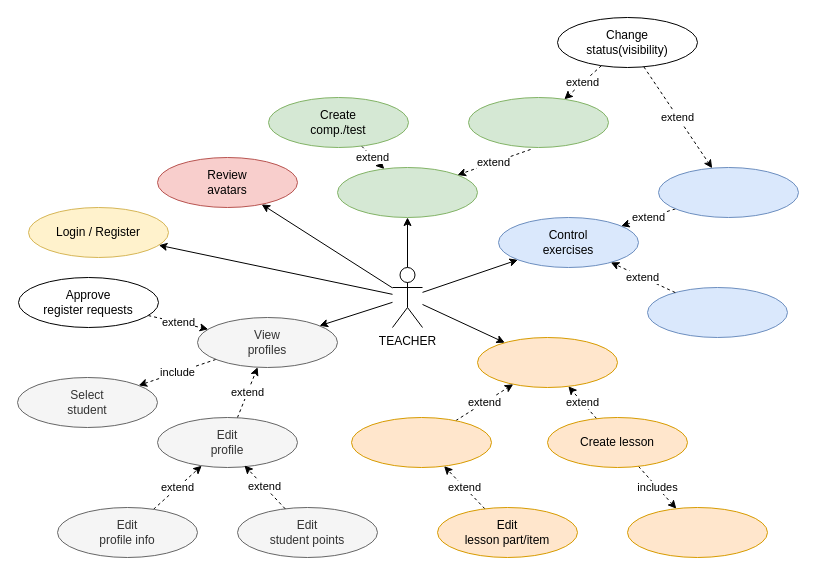
Some shapes in this 816 by 575 pixel diagram are drawn without their labels. The box of each missing label's shape, as (x1, y1, x2, y2) in pixels:
Control comp./tests: (336, 166, 478, 218)
Control lessons: (476, 336, 618, 388)
Create exercise: (646, 286, 788, 338)
Create lesson part/item: (626, 506, 768, 558)
Edit comp./test: (468, 96, 608, 148)
Edit exercise: (658, 166, 798, 218)
Edit lesson: (350, 416, 492, 468)
